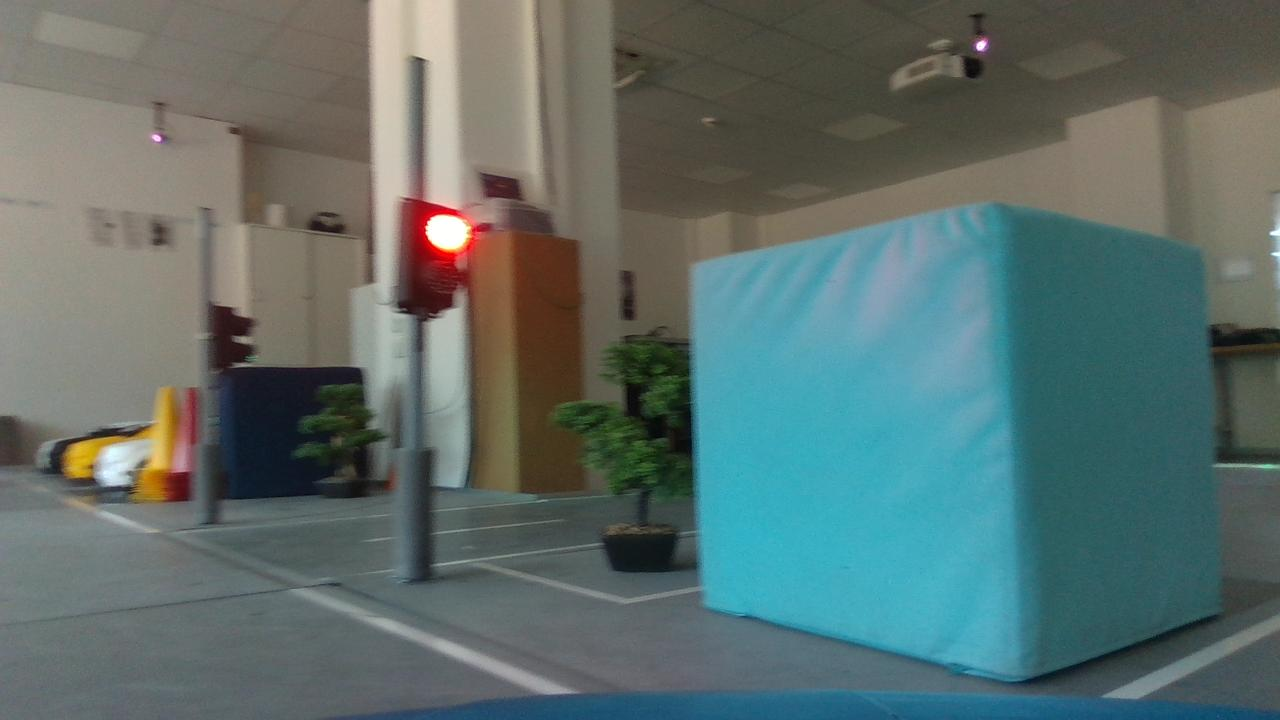traffic_light_red: (382, 186, 484, 324)
